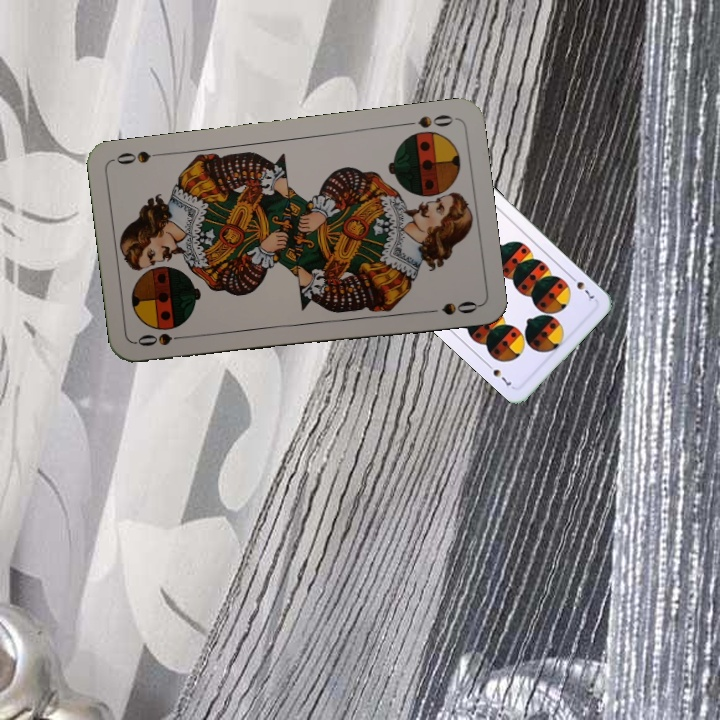S7: (566, 271, 597, 304)
SO: (133, 329, 192, 349), (399, 110, 456, 130)
